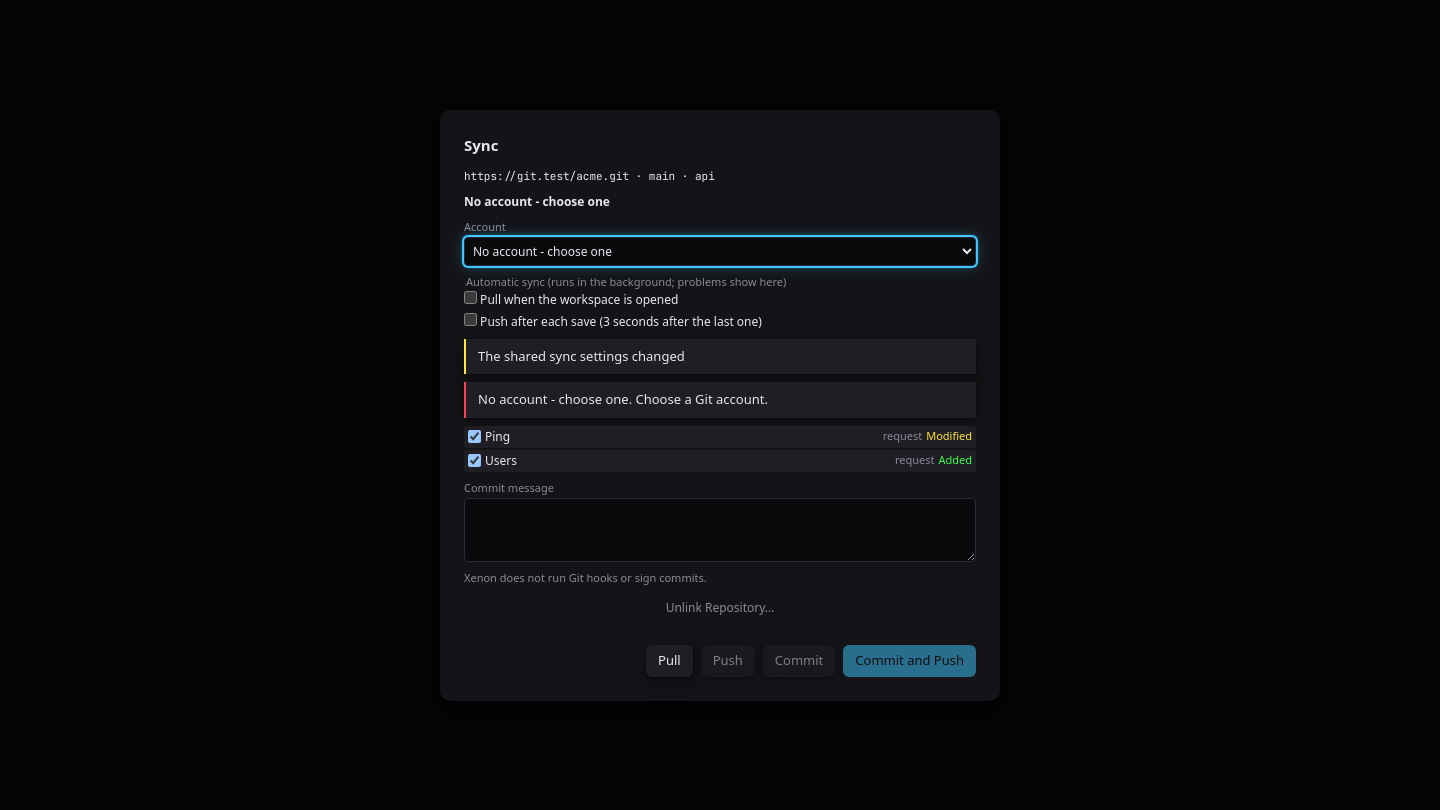
Test: sync UI › shows errors with their next step, notices, conflicts and the missing account
This screenshot has width=1440, height=810.
Expected: the text "No account - choose one. Choose a Git account." is shown, [478, 390, 768, 408]
Expected: the text "The shared sync settings changed" is shown, [478, 346, 685, 364]
Step 1. Select "Work GitLab" in the dropdown labelled "Account" → (720, 252), box [464, 237, 976, 266]
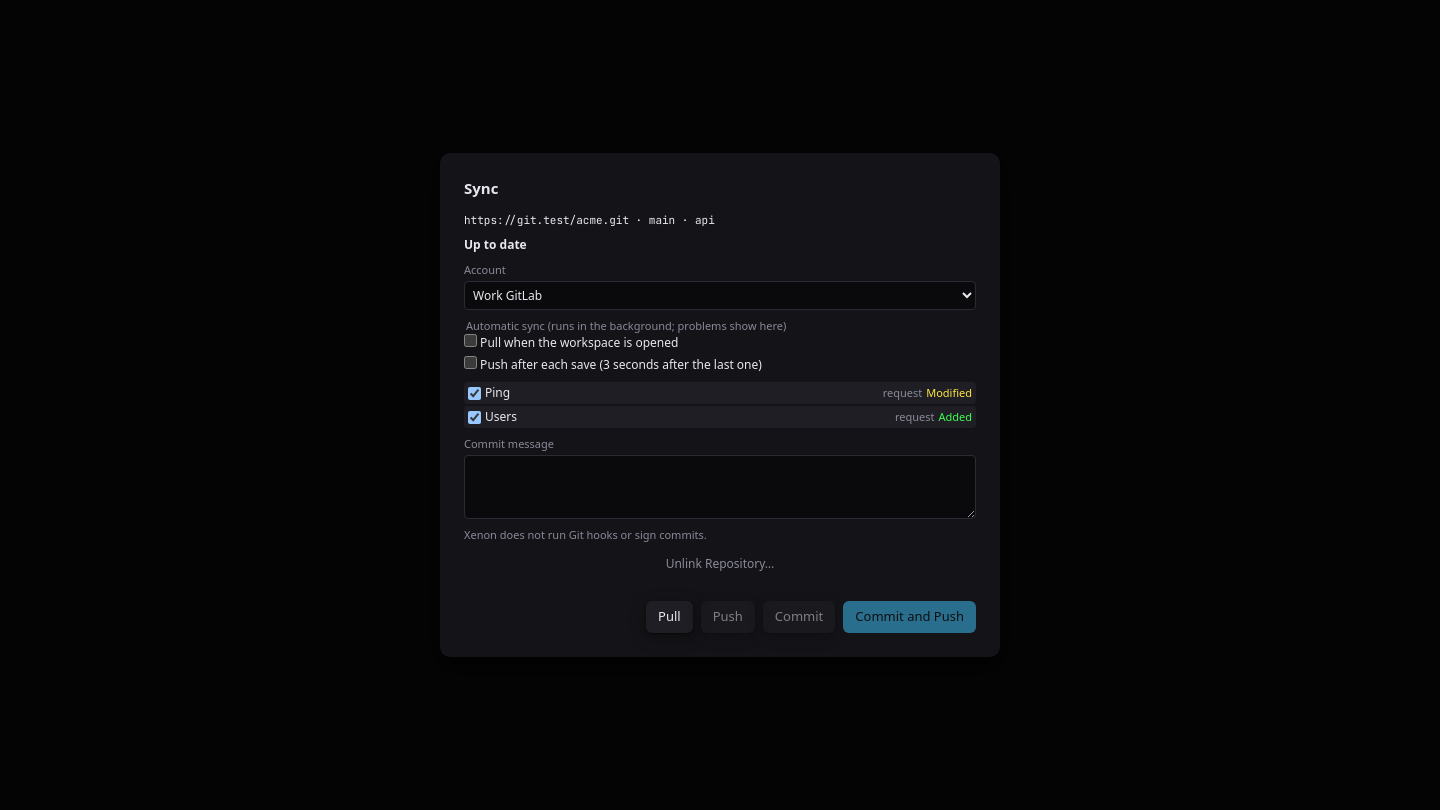
Step 2. Click the button "Pull" → (669, 617), box [646, 601, 693, 633]
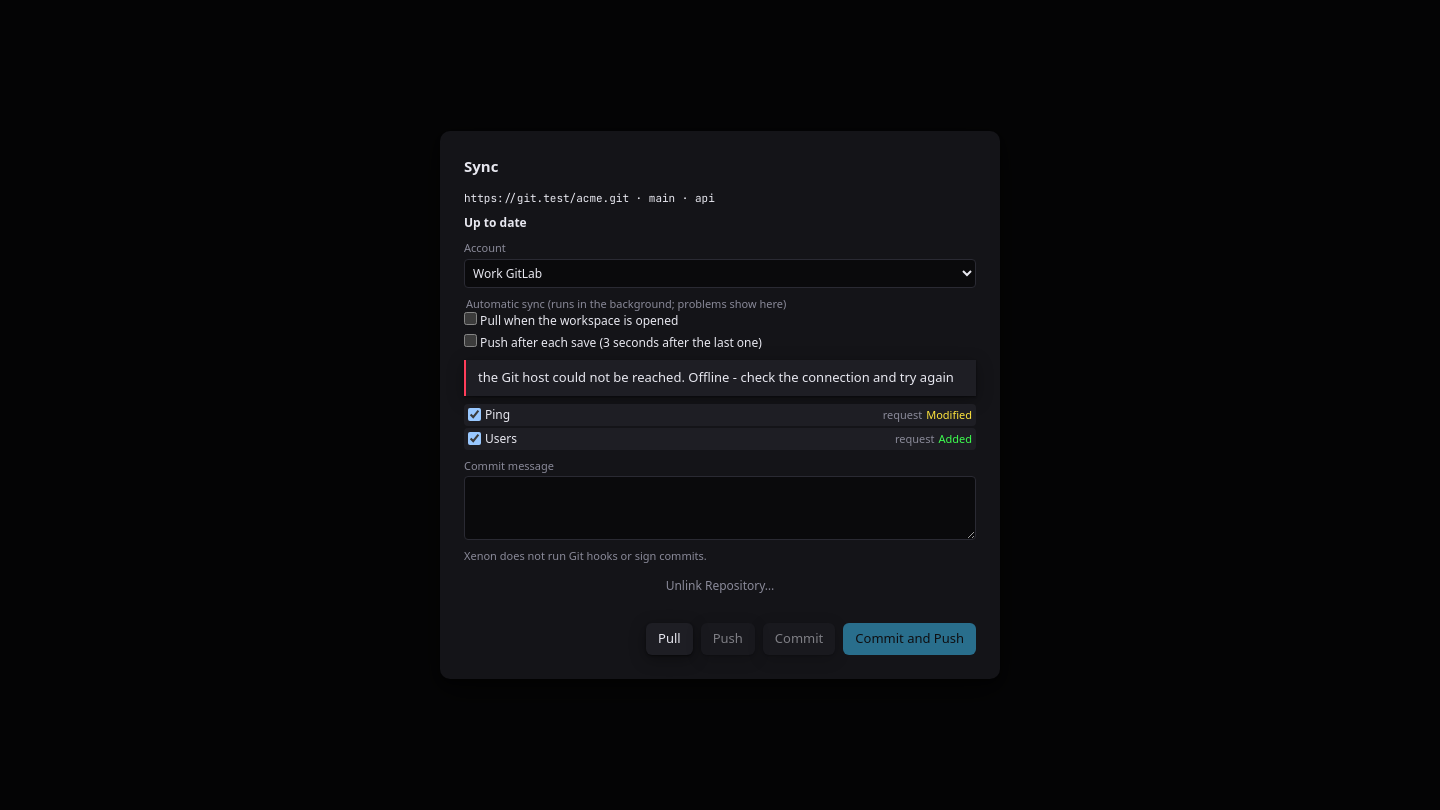
Expected: the text "the Git host could not be reached. Offline - check the connection and try again" is shown, [478, 368, 964, 388]
